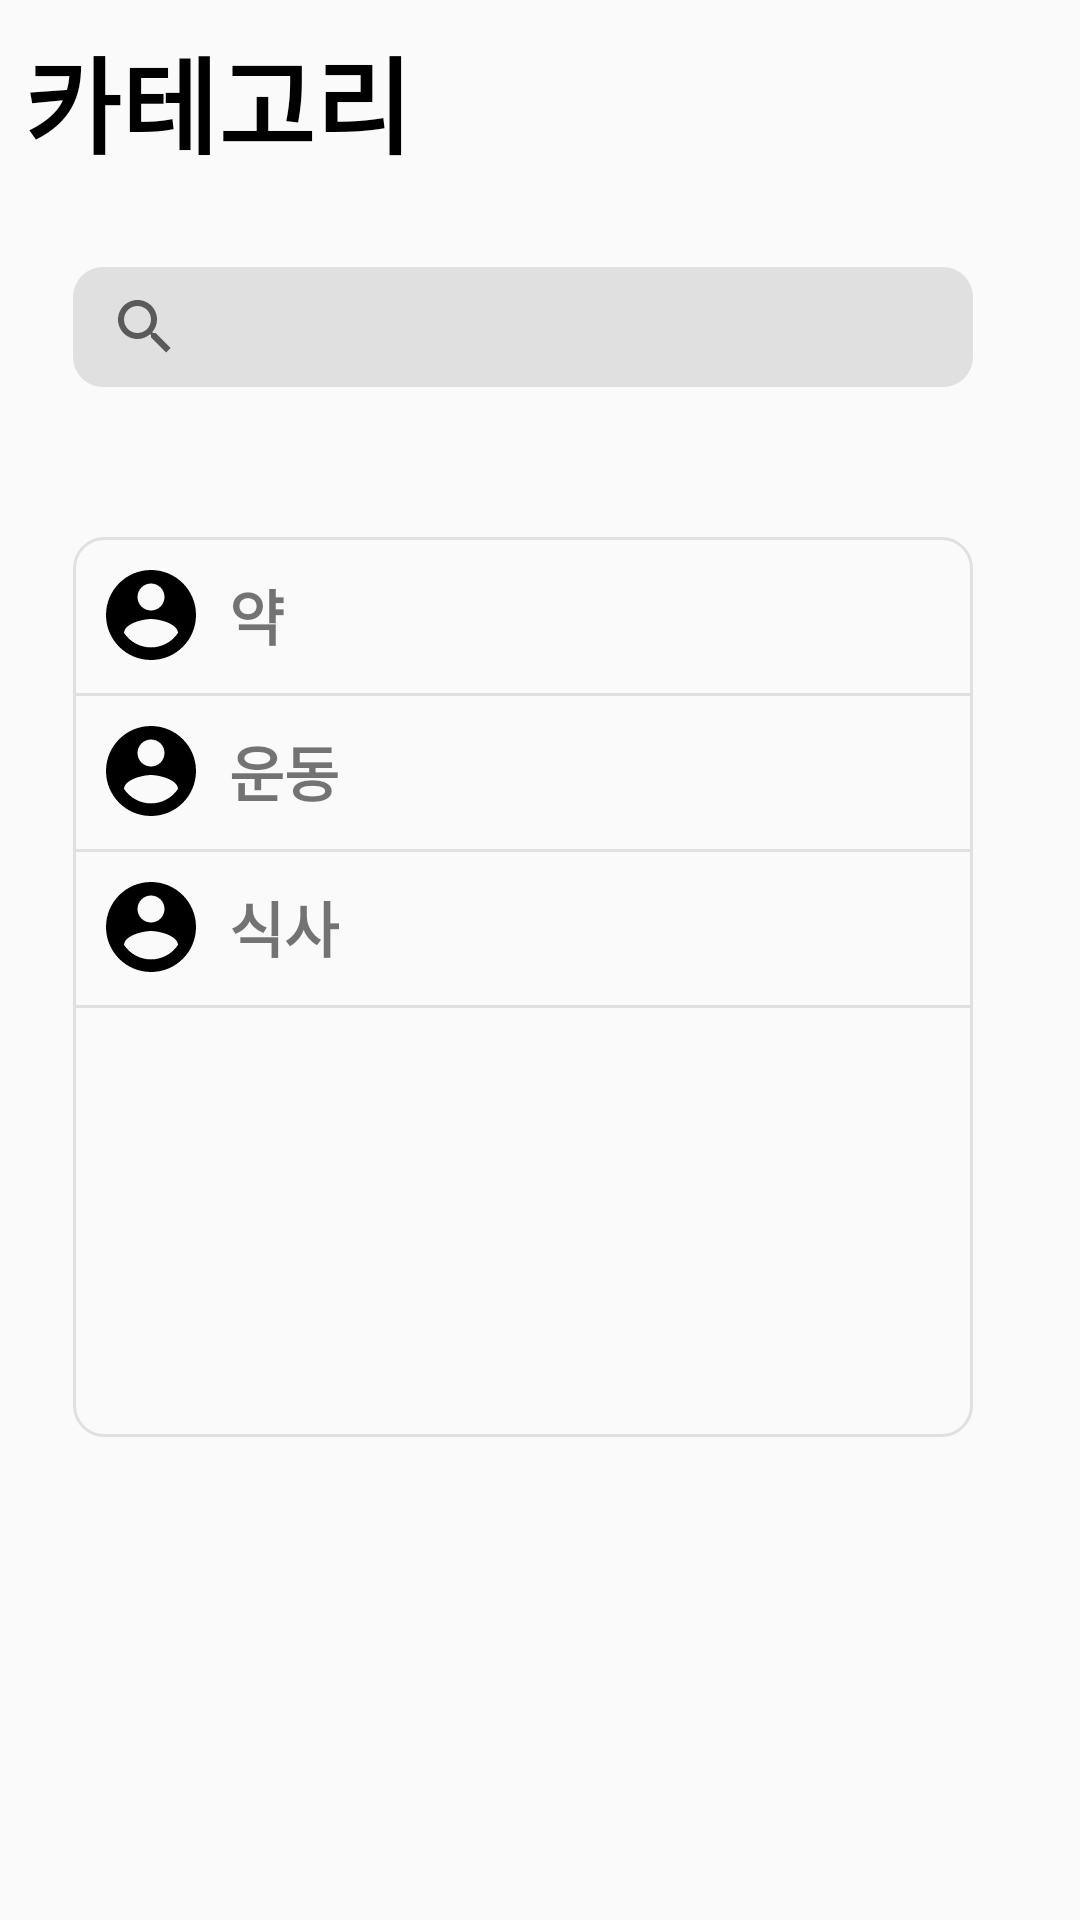

Locate icon controls on the screen. Image size 1080 × 1920, boxes as (x1, y1, x2, y2).
account circle: (106, 570, 196, 660), (106, 726, 196, 816), (106, 882, 196, 972)
